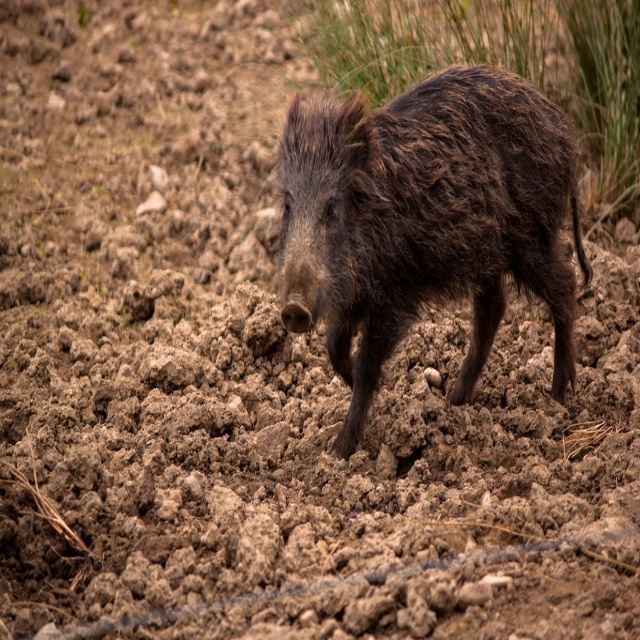Pig: (266, 59, 594, 465)
